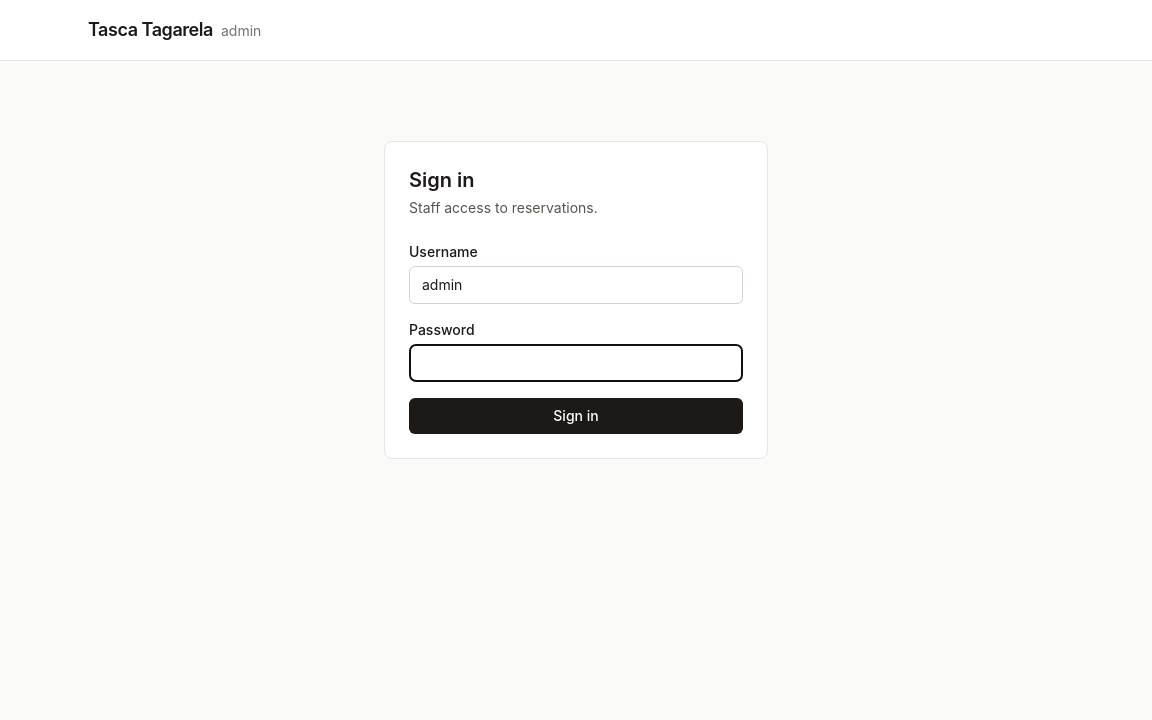
Test: login flow › shows the server message on wrong credentials
Type "wrong-password" into the password field labelled "Password" at (576, 363), box [409,344,743,382]
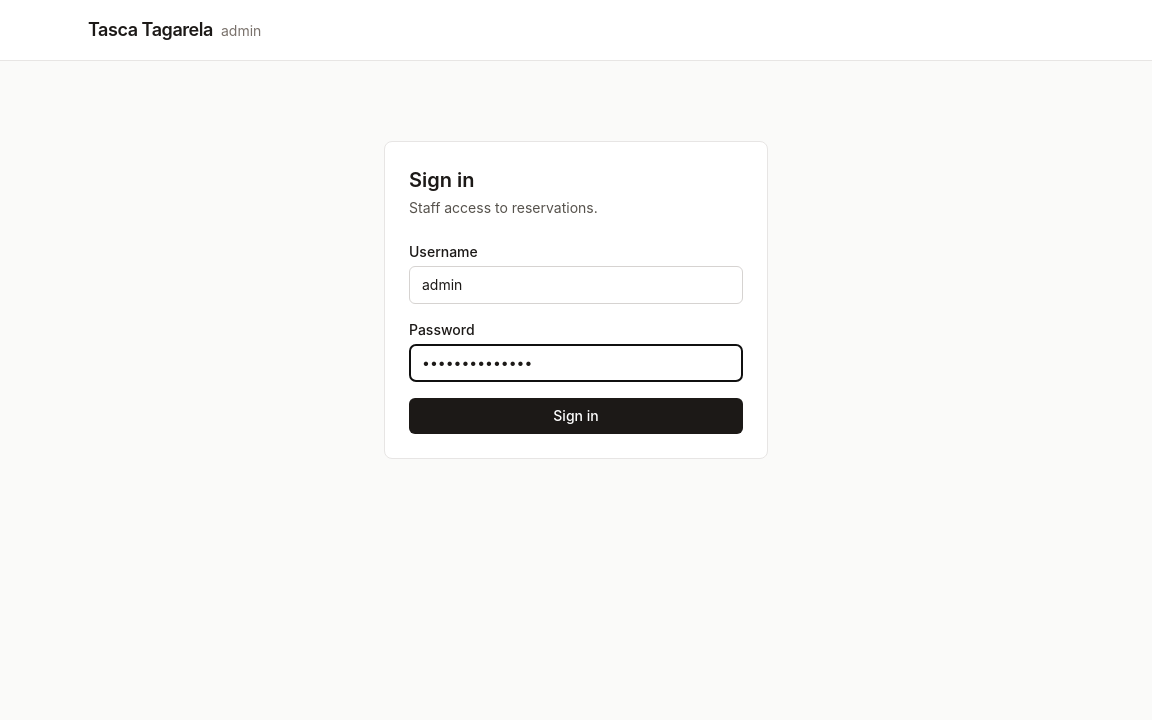
Click the button "Sign in" at (576, 416), box [409,398,743,434]
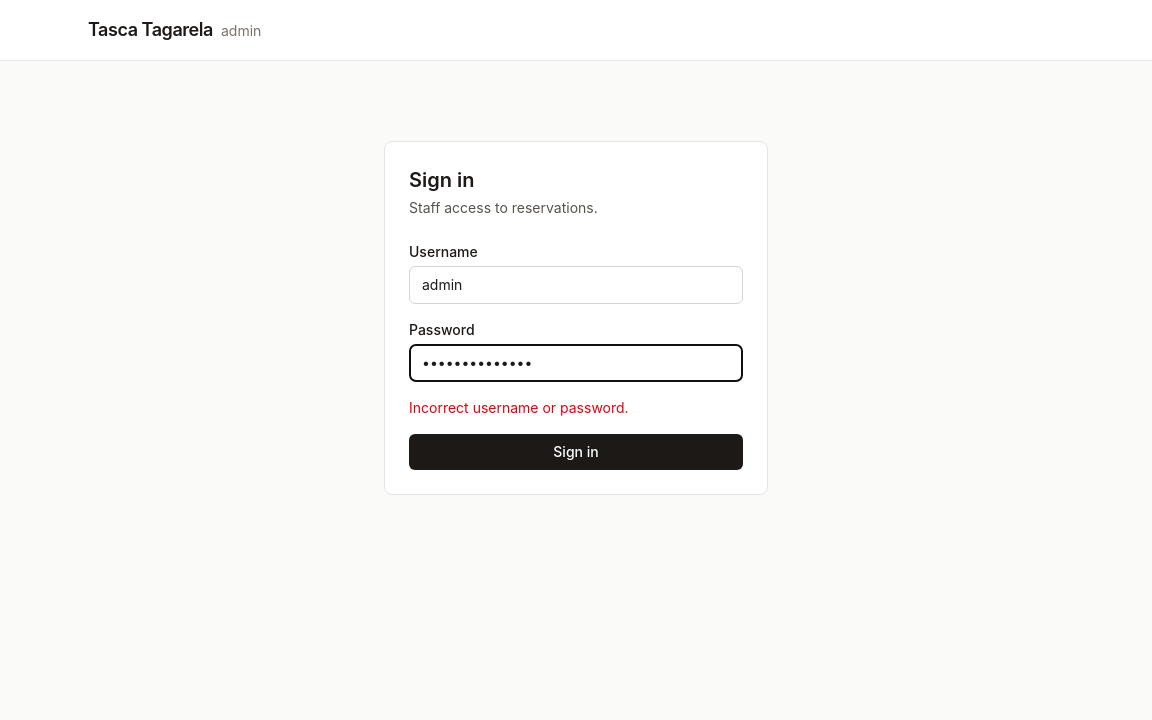
Check: the message reads "Incorrect username or password.", box [409,399,629,416]
